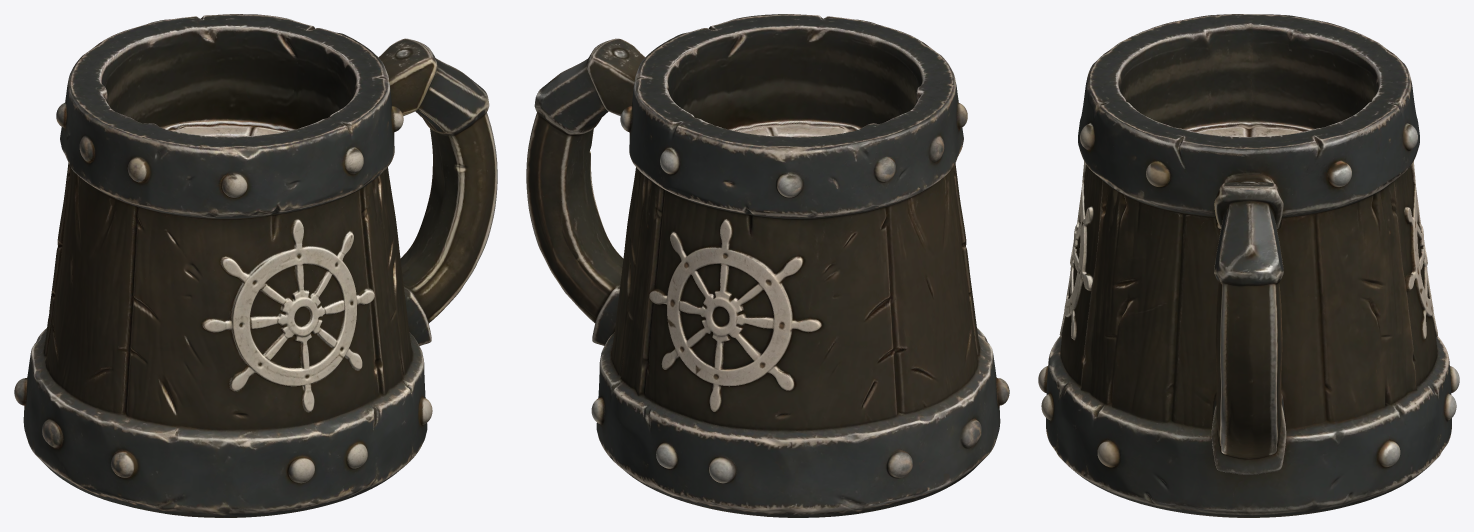
File: furniture_03.glb
3 views of the same model, side by side, from view 1: azimuth 30°, elevation 25°; view 2: azimuth 150°, elevation 25°; view 3: azimuth 270°, elevation 25° (orthographic).
Bounding box in the file's own units: 1.9 × 1.45 × 1.55.
Materials: 1 (1 with a texture image).
